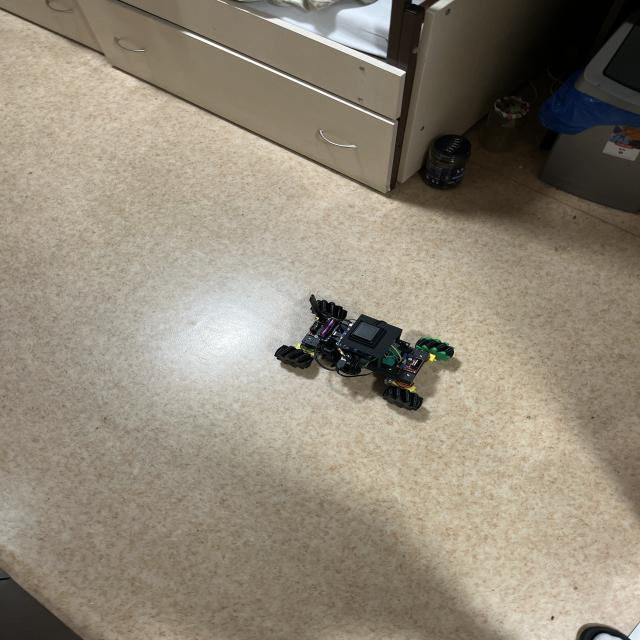robot: (275, 295, 429, 410)
